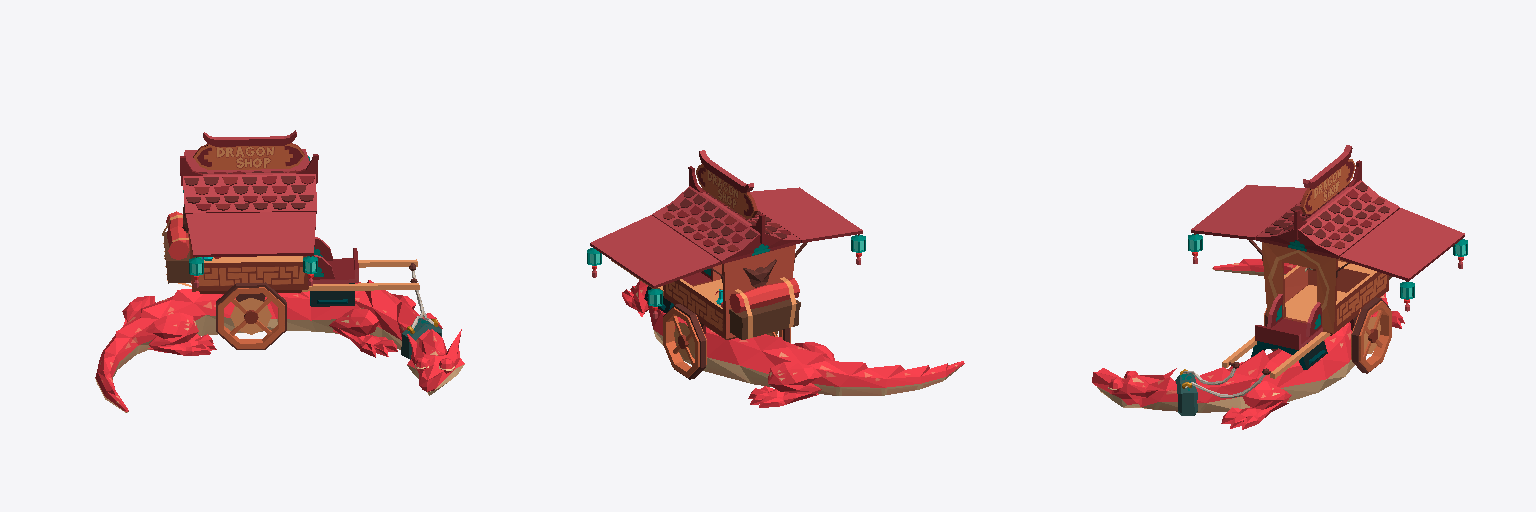
3 views of the same model, side by side, from view 1: azimuth 30°, elevation 25°; view 2: azimuth 150°, elevation 25°; view 3: azimuth 270°, elevation 25° (orthographic).
Visible parts, largest first — view 1: Object_10, Object_2; view 2: Object_10, Object_2; view 3: Object_10, Object_2.
Part boxes in pixels (x1,y1,x2,y2): Object_10: (162,130,419,349); Object_2: (95,270,464,412); Object_10: (587,150,865,379); Object_2: (622,280,964,407); Object_10: (1188,145,1467,378); Object_2: (1092,259,1404,429).
Size of the model in its own units: 8.26 by 4.9 by 8.18.
10 materials, 10 textured.